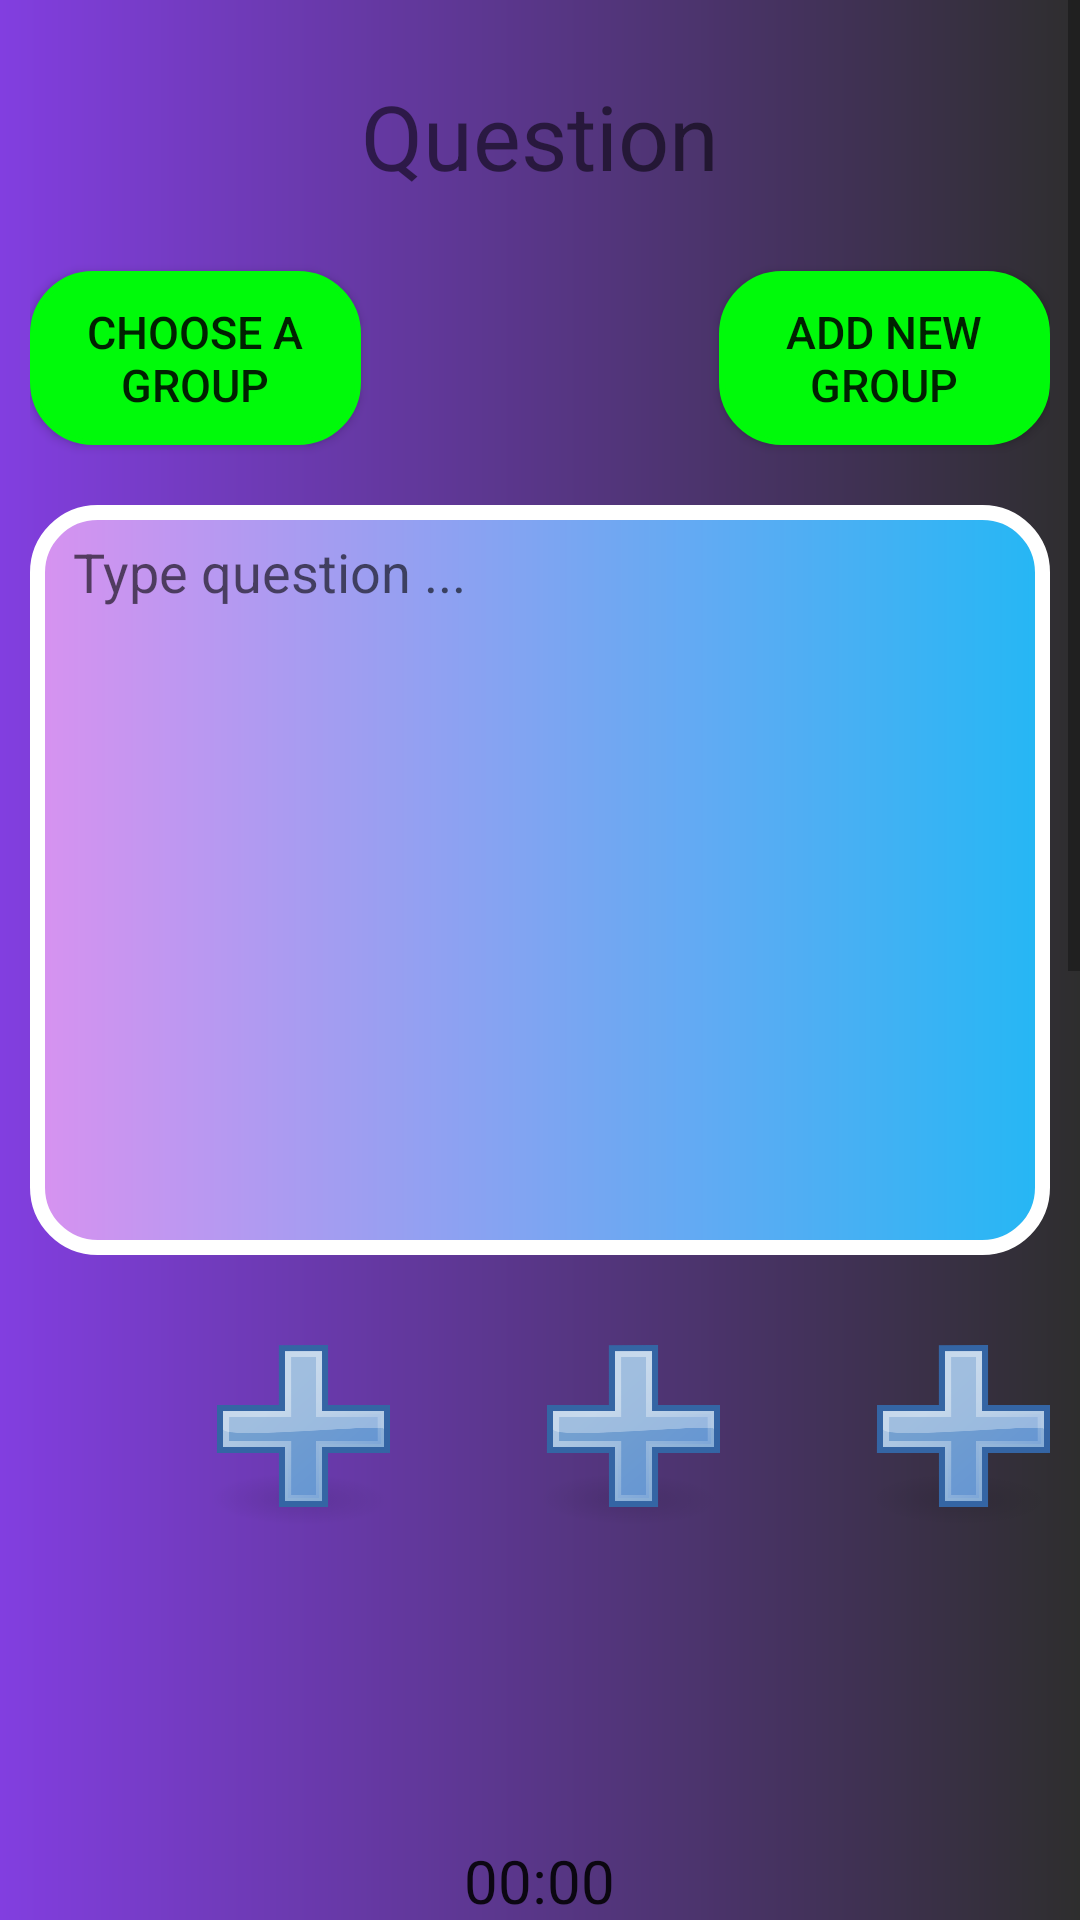

Where to tap for icons on this 1080 × 1920 app screen, as [x,y]:
addpicture: [303,1435], [630,1435], [960,1435]
